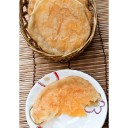poori: (30, 1, 90, 50)
